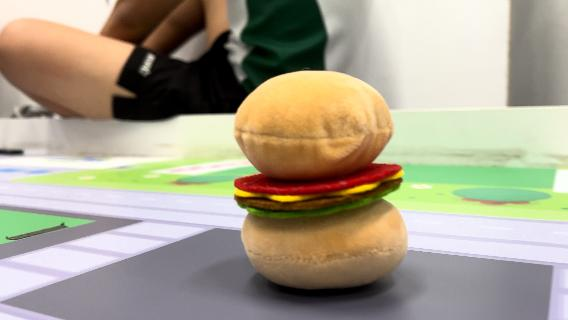burger: (226, 66, 416, 292)
